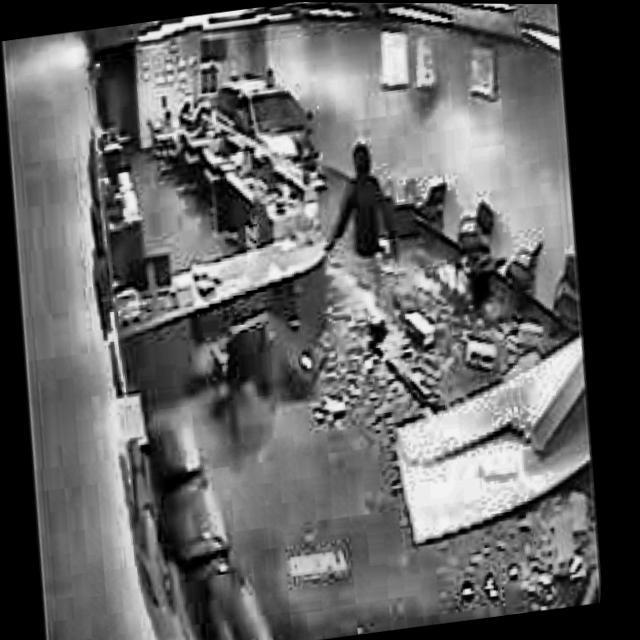Weapon: (328, 139, 522, 415)
